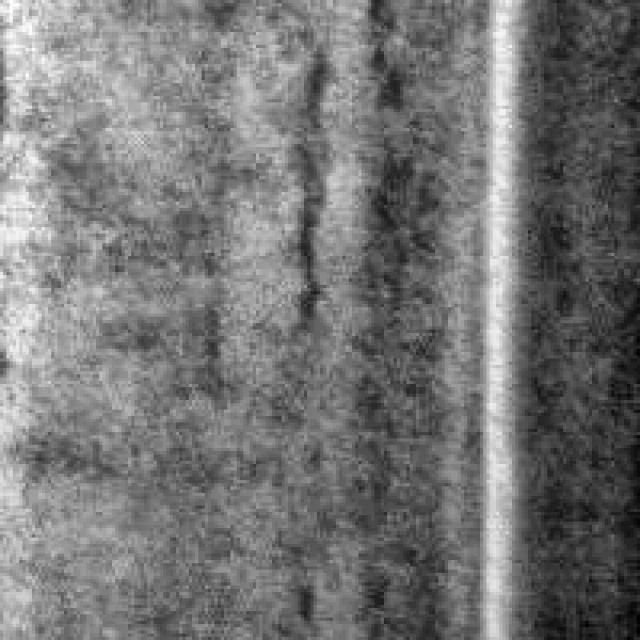Inclusion: (470, 0, 518, 630)
Patches: (268, 54, 339, 333)
